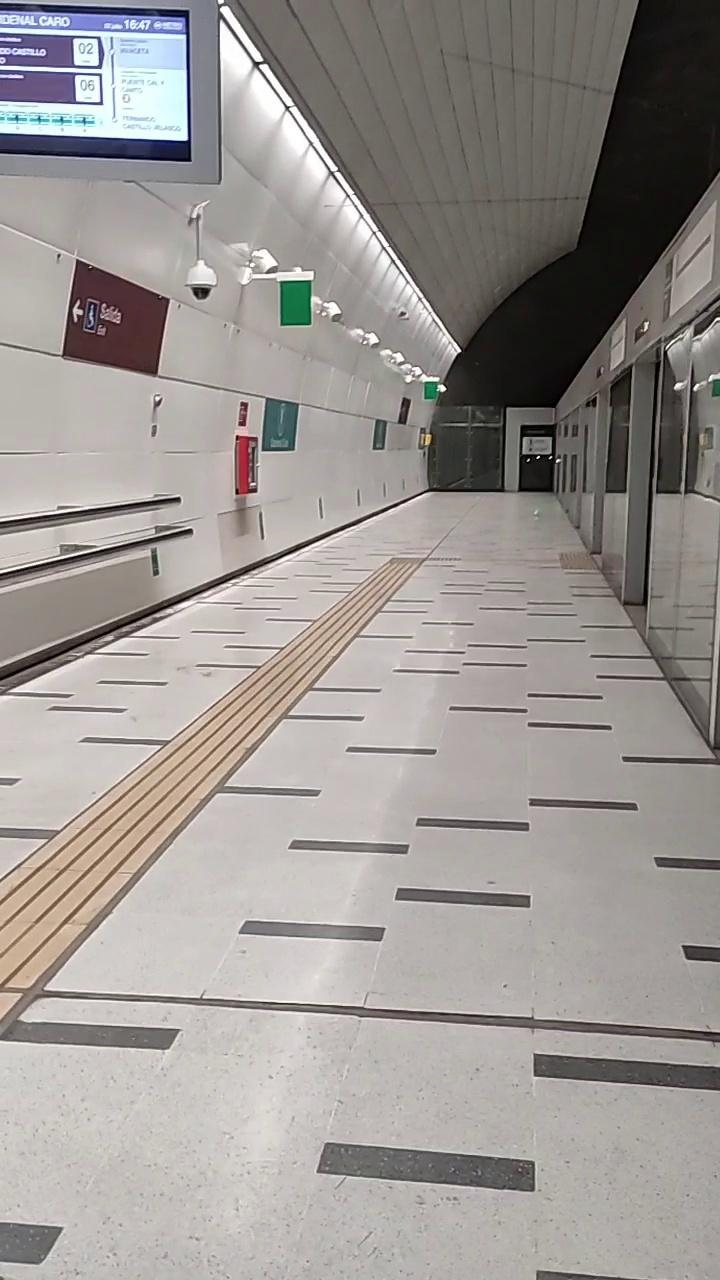handicapped symbol: (87, 304, 95, 328)
left arrow: (70, 297, 85, 325)
